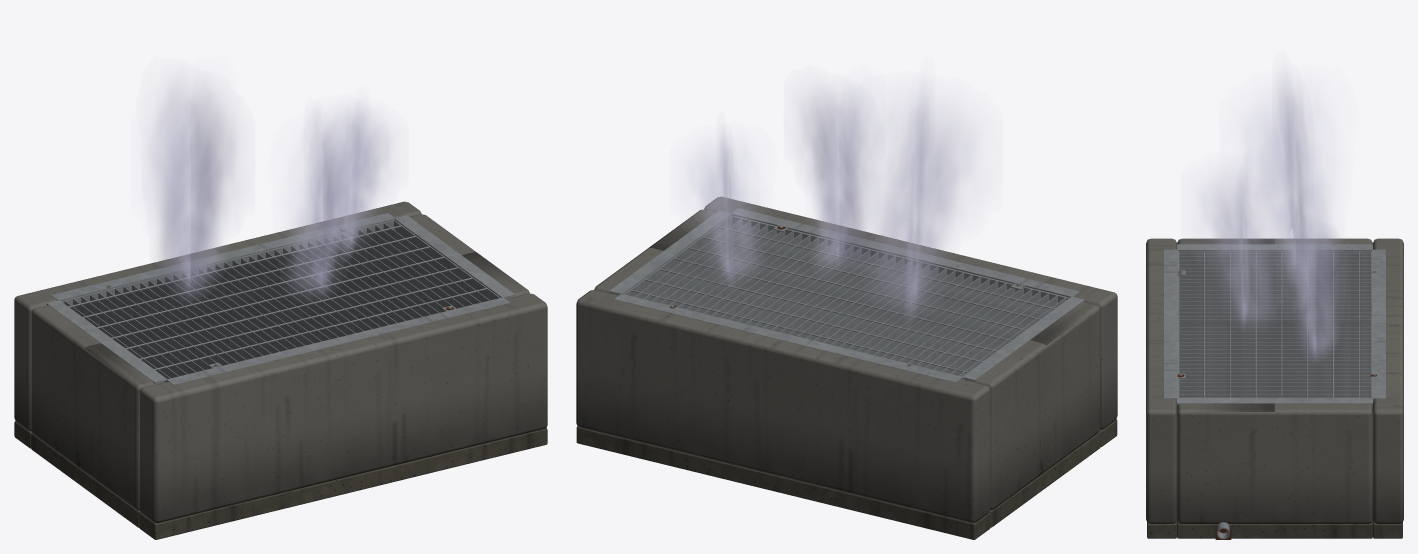
The model's file is grate_vent.glb.
3 views of the same model, side by side, from view 1: azimuth 30°, elevation 25°; view 2: azimuth 150°, elevation 25°; view 3: azimuth 270°, elevation 25° (orthographic). The views are drawn at different scales.
Visible parts, largest first — view 1: part_plinth_LOD0, part_grate_LOD0, part_steam_1_LOD0, part_steam_2_LOD0, part_frame_LOD0, part_steam_3_LOD0; view 2: part_plinth_LOD0, part_grate_LOD0, part_steam_1_LOD0, part_steam_2_LOD0, part_frame_LOD0, part_steam_3_LOD0; view 3: part_plinth_LOD0, part_grate_LOD0, part_steam_1_LOD0, part_steam_2_LOD0, part_frame_LOD0, part_steam_3_LOD0.
Boxes of the visible parts, left/top/right/bottom form: part_plinth_LOD0: left=14, top=201, right=547, bottom=539; part_grate_LOD0: left=61, top=220, right=500, bottom=378; part_steam_1_LOD0: left=143, top=76, right=237, bottom=300; part_steam_2_LOD0: left=288, top=113, right=371, bottom=298; part_frame_LOD0: left=46, top=213, right=515, bottom=384; part_steam_3_LOD0: left=333, top=100, right=393, bottom=255; part_plinth_LOD0: left=576, top=196, right=1117, bottom=539; part_grate_LOD0: left=624, top=215, right=1069, bottom=376; part_steam_1_LOD0: left=870, top=80, right=979, bottom=317; part_steam_2_LOD0: left=799, top=84, right=874, bottom=269; part_frame_LOD0: left=609, top=208, right=1084, bottom=382; part_steam_3_LOD0: left=685, top=127, right=759, bottom=286; part_plinth_LOD0: left=1146, top=238, right=1403, bottom=538; part_grate_LOD0: left=1177, top=251, right=1376, bottom=397; part_steam_1_LOD0: left=1240, top=72, right=1334, bottom=277; part_steam_2_LOD0: left=1198, top=162, right=1276, bottom=328; part_frame_LOD0: left=1164, top=244, right=1385, bottom=539; part_steam_3_LOD0: left=1287, top=225, right=1344, bottom=360.
Size of what is drawn, in the model's own units: 1.65 by 1.59 by 1.
Materials: 10 (10 with a texture image).
